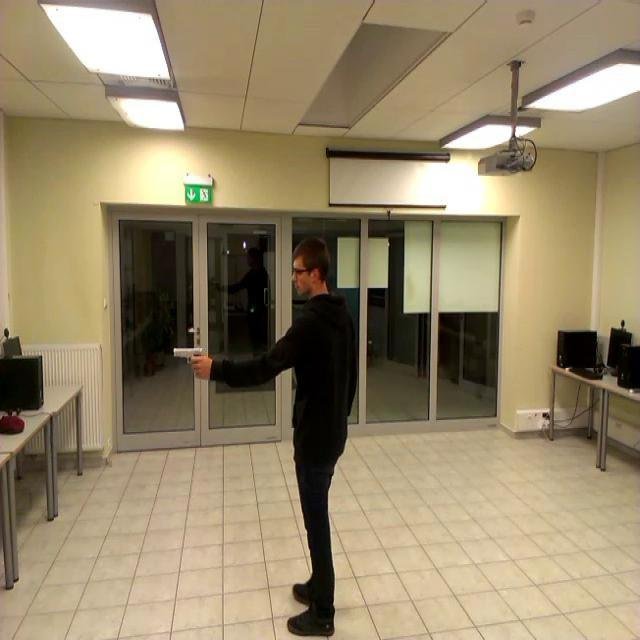weapon: (168, 346, 205, 380)
